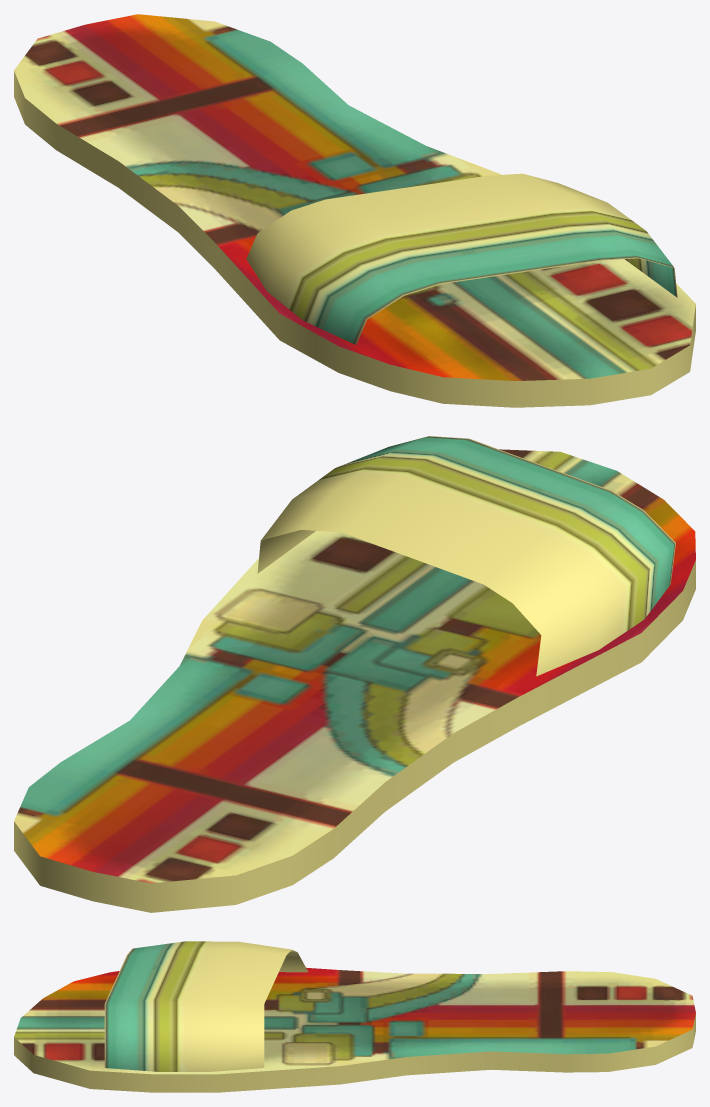
File: p6_beach_sandals_03_right_lod0.glb
3 renders of one model, top to bottom at view 1: azimuth 30°, elevation 25°; view 2: azimuth 150°, elevation 25°; view 3: azimuth 270°, elevation 25°, orthographic. The views are drawn at different scales.
Parts seen in each view (by area): view 1: surf0; view 2: surf0; view 3: surf0.
Part boxes in pixels (bbox=[...]): surf0: bbox=[14, 14, 695, 407]; surf0: bbox=[14, 436, 695, 912]; surf0: bbox=[14, 941, 695, 1092].
Size of the model in its own units: 5.16 by 1.33 by 13.24.
